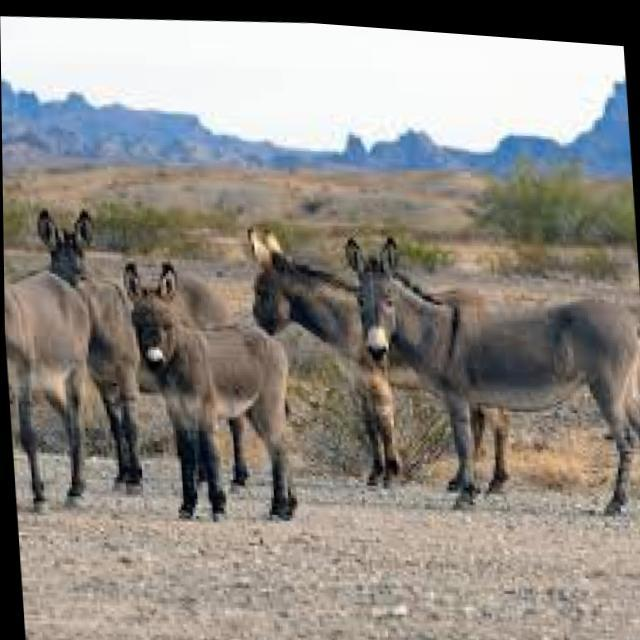Donkey: (336, 195, 640, 514), (110, 238, 302, 542), (2, 190, 158, 528), (336, 204, 434, 364), (232, 206, 337, 343)
